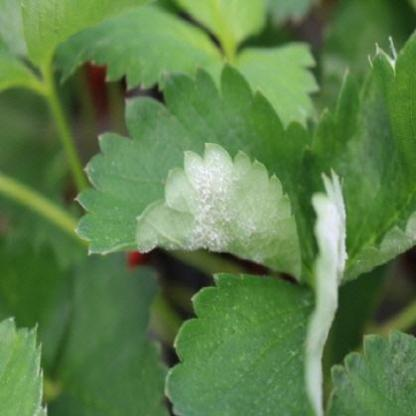Strawberry_Powdery_Mildew_Leaf: (74, 61, 312, 285), (162, 168, 346, 415), (297, 29, 415, 288)
